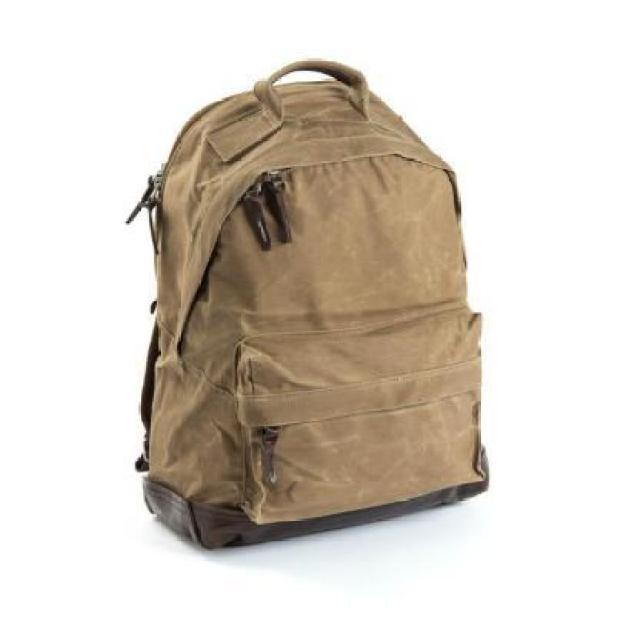backpack: (123, 51, 494, 557)
